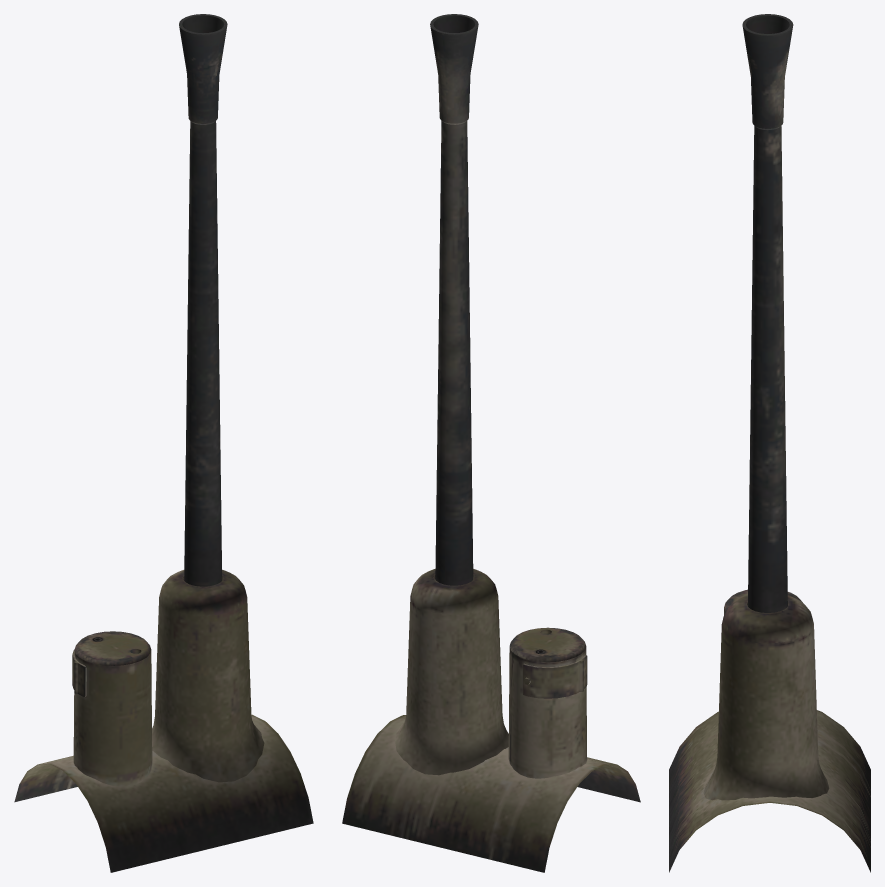
The model's file is Gun_02.glb.
3 views of the same model, side by side, from view 1: azimuth 30°, elevation 25°; view 2: azimuth 150°, elevation 25°; view 3: azimuth 270°, elevation 25° (orthographic). The views are drawn at different scales.
Parts seen in each view (by area): view 1: set_0_group_0; view 2: set_0_group_0; view 3: set_0_group_0.
Boxes of the visible parts, <box> form: set_0_group_0: <box>14,14,313,872</box>; set_0_group_0: <box>342,14,640,872</box>; set_0_group_0: <box>669,14,870,872</box>.
Size of the model in its own units: 0.6409 by 2.36 by 0.5278.
1 material, 1 textured.
